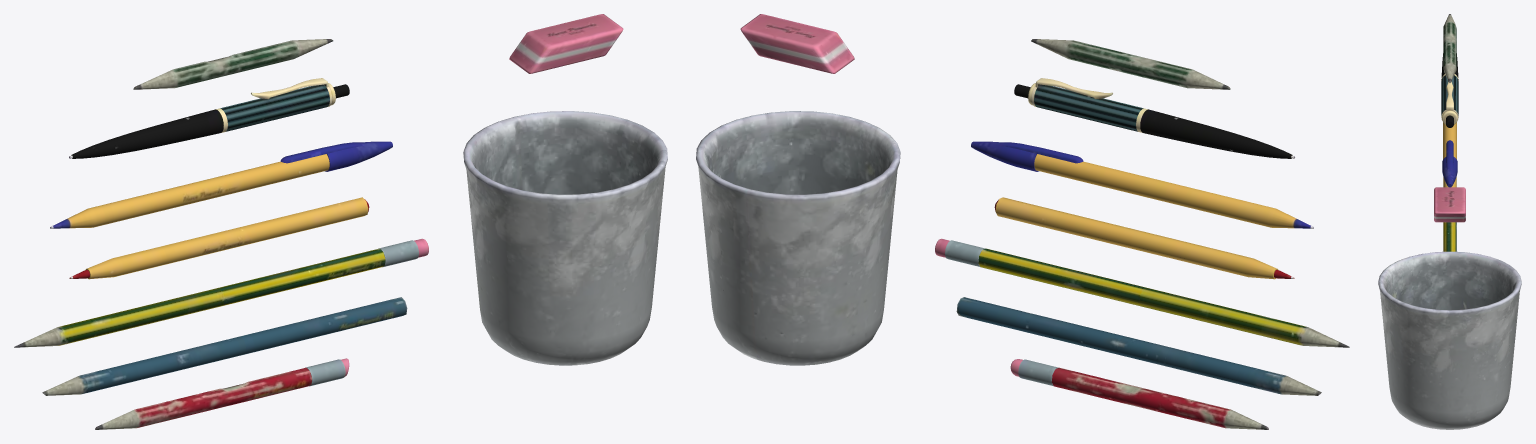
Rendered from stationery_supplies.glb.
3 views of the same model, side by side, from view 1: azimuth 30°, elevation 25°; view 2: azimuth 150°, elevation 25°; view 3: azimuth 270°, elevation 25° (orthographic). The views are drawn at different scales.
Parts seen in each view (by area): view 1: stationery_supplies_pencilcup, stationery_supplies_pencil_new_a, stationery_supplies_pencil_new_b, stationery_supplies_pen_blue, stationery_supplies_pen_fancy, stationery_supplies_pen_red, stationery_supplies_pencil_used, stationery_supplies_eraser, stationery_supplies_pencil_old; view 2: stationery_supplies_pencilcup, stationery_supplies_pencil_new_a, stationery_supplies_pencil_new_b, stationery_supplies_pen_blue, stationery_supplies_pen_fancy, stationery_supplies_pen_red, stationery_supplies_pencil_used, stationery_supplies_eraser, stationery_supplies_pencil_old; view 3: stationery_supplies_pencilcup, stationery_supplies_eraser, stationery_supplies_pen_fancy, stationery_supplies_pen_blue, stationery_supplies_pencil_old, stationery_supplies_pencil_new_a.
Boxes of the visible parts, x1,y1,x2,y2 form: stationery_supplies_pencilcup: (463, 111, 667, 365); stationery_supplies_pencil_new_a: (14, 238, 428, 347); stationery_supplies_pencil_new_b: (42, 297, 407, 395); stationery_supplies_pen_blue: (50, 141, 392, 228); stationery_supplies_pen_fancy: (69, 78, 349, 158); stationery_supplies_pen_red: (69, 197, 369, 279); stationery_supplies_pencil_used: (95, 358, 349, 429); stationery_supplies_eraser: (509, 14, 623, 73); stationery_supplies_pencil_old: (133, 39, 333, 89); stationery_supplies_pencilcup: (696, 111, 900, 365); stationery_supplies_pencil_new_a: (935, 238, 1349, 347); stationery_supplies_pencil_new_b: (956, 297, 1321, 395); stationery_supplies_pen_blue: (971, 141, 1313, 228); stationery_supplies_pen_fancy: (1014, 78, 1294, 158); stationery_supplies_pen_red: (994, 197, 1294, 279); stationery_supplies_pencil_used: (1010, 359, 1268, 429); stationery_supplies_eraser: (740, 14, 854, 73); stationery_supplies_pencil_old: (1031, 39, 1230, 89); stationery_supplies_pencilcup: (1378, 251, 1521, 429); stationery_supplies_eraser: (1434, 187, 1465, 222); stationery_supplies_pen_fancy: (1441, 53, 1458, 127); stationery_supplies_pen_blue: (1442, 122, 1457, 187); stationery_supplies_pencil_old: (1443, 14, 1456, 82); stationery_supplies_pencil_new_a: (1443, 222, 1456, 251).
Bounding box in the file's own units: 0.3019 × 0.1643 × 0.0837.
Materials: 1 (1 with a texture image).
